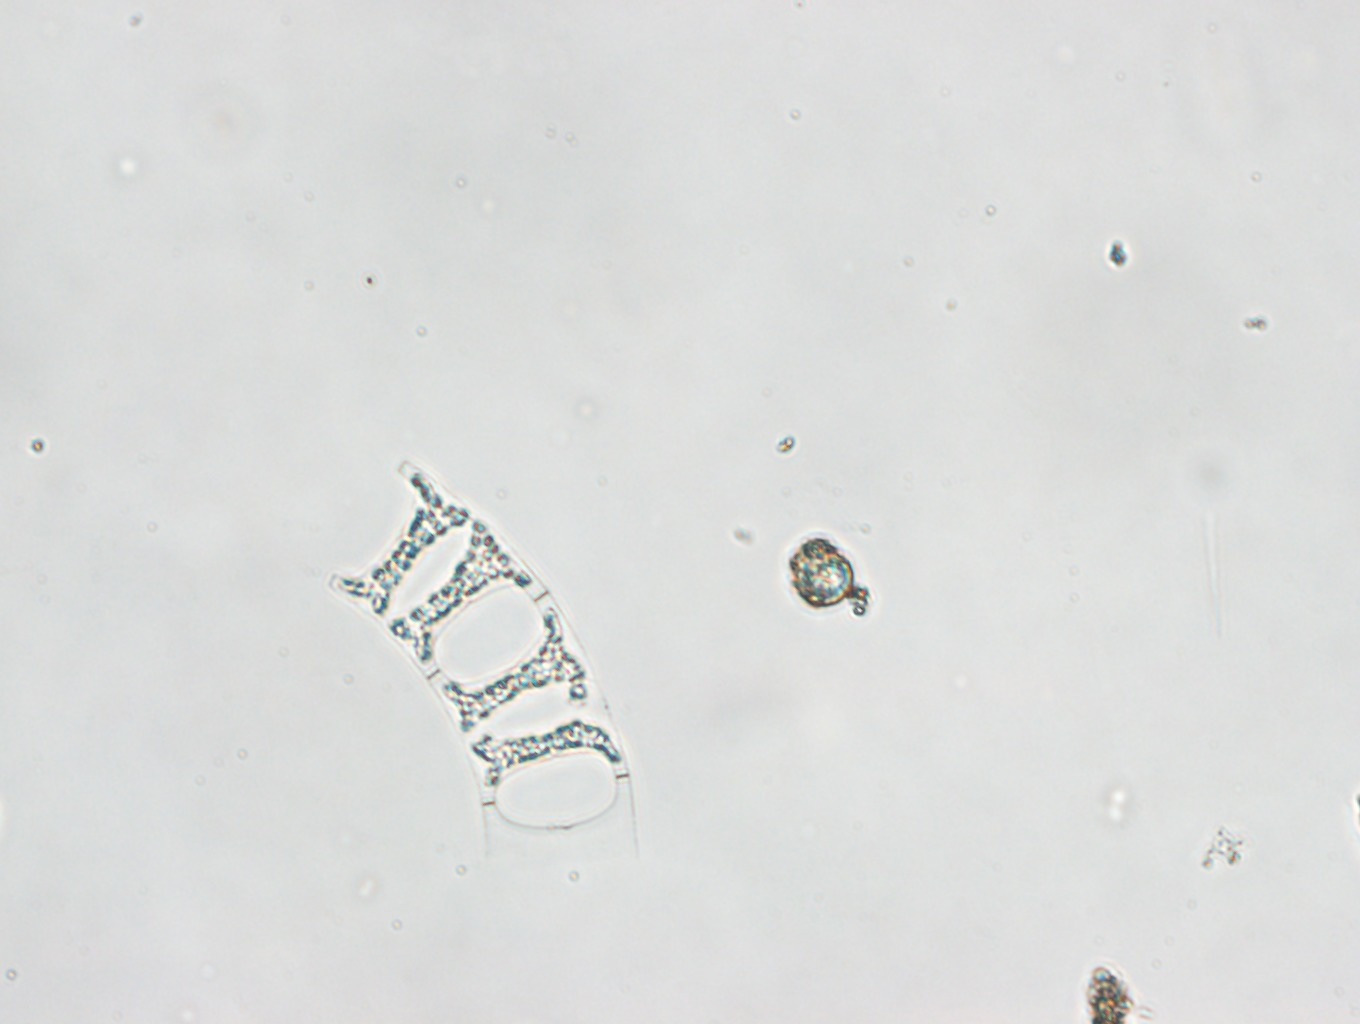eucampia: (326, 455, 639, 857)
